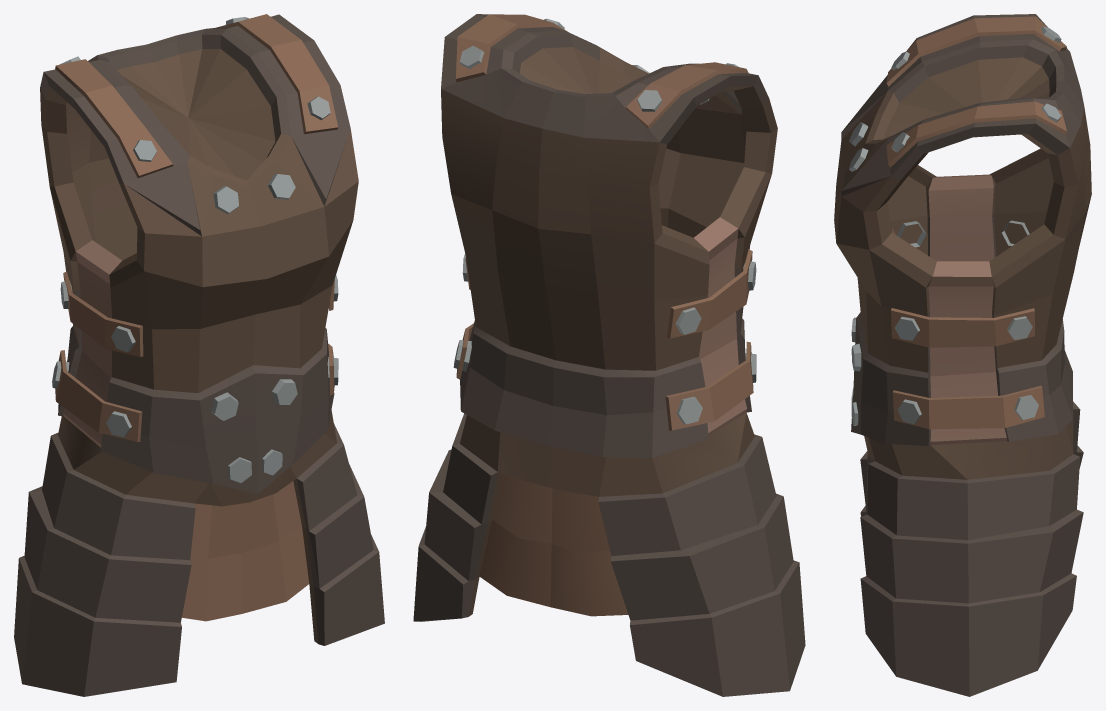
File: armorLeatherFullDisplay.fbx
The picture shows the model from 3 angles, left to right: view 1: azimuth 30°, elevation 25°; view 2: azimuth 150°, elevation 25°; view 3: azimuth 270°, elevation 25°; orthographic projection. The views are drawn at different scales.
Visible parts, largest first — view 1: armorLeatherFullDisplay; view 2: armorLeatherFullDisplay; view 3: armorLeatherFullDisplay.
Boxes of the visible parts, x1,y1,x2,y2 form: armorLeatherFullDisplay: (14,14,384,696); armorLeatherFullDisplay: (413,14,805,696); armorLeatherFullDisplay: (834,14,1091,696).
Bounding box in the file's own units: 1.1 × 1.74 × 0.7357.
